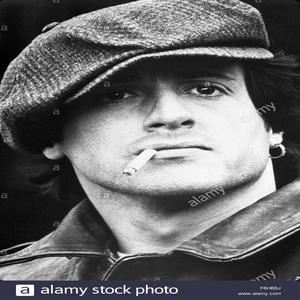cigarette: (122, 147, 157, 178)
